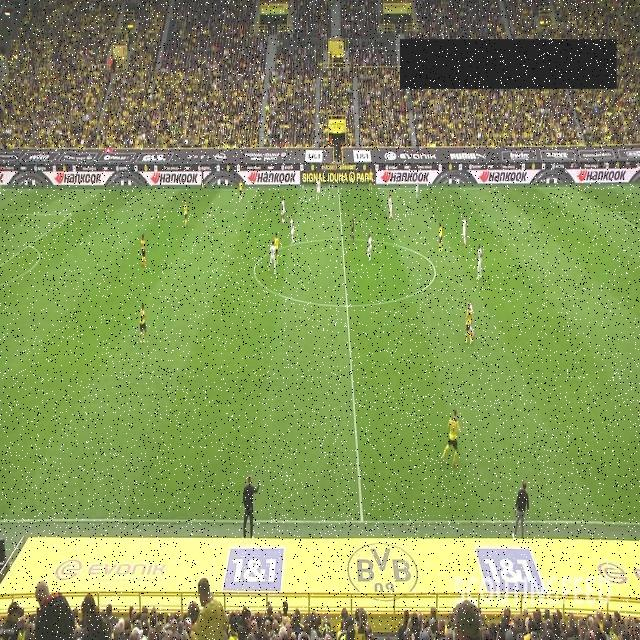Ball: (209, 212, 212, 219)
Referee: (200, 168, 207, 190), (351, 215, 355, 242)
TEAM 1: (139, 303, 147, 344), (140, 233, 148, 267), (476, 243, 482, 280), (274, 232, 280, 264), (183, 198, 189, 228), (238, 180, 244, 201), (368, 167, 373, 192), (438, 222, 442, 252)
TEAM 2: (442, 408, 461, 468), (464, 300, 474, 344), (267, 240, 277, 274), (367, 233, 373, 262), (387, 192, 393, 220), (280, 197, 286, 225), (462, 214, 467, 247), (315, 177, 321, 201), (290, 216, 294, 244), (414, 182, 420, 200)
